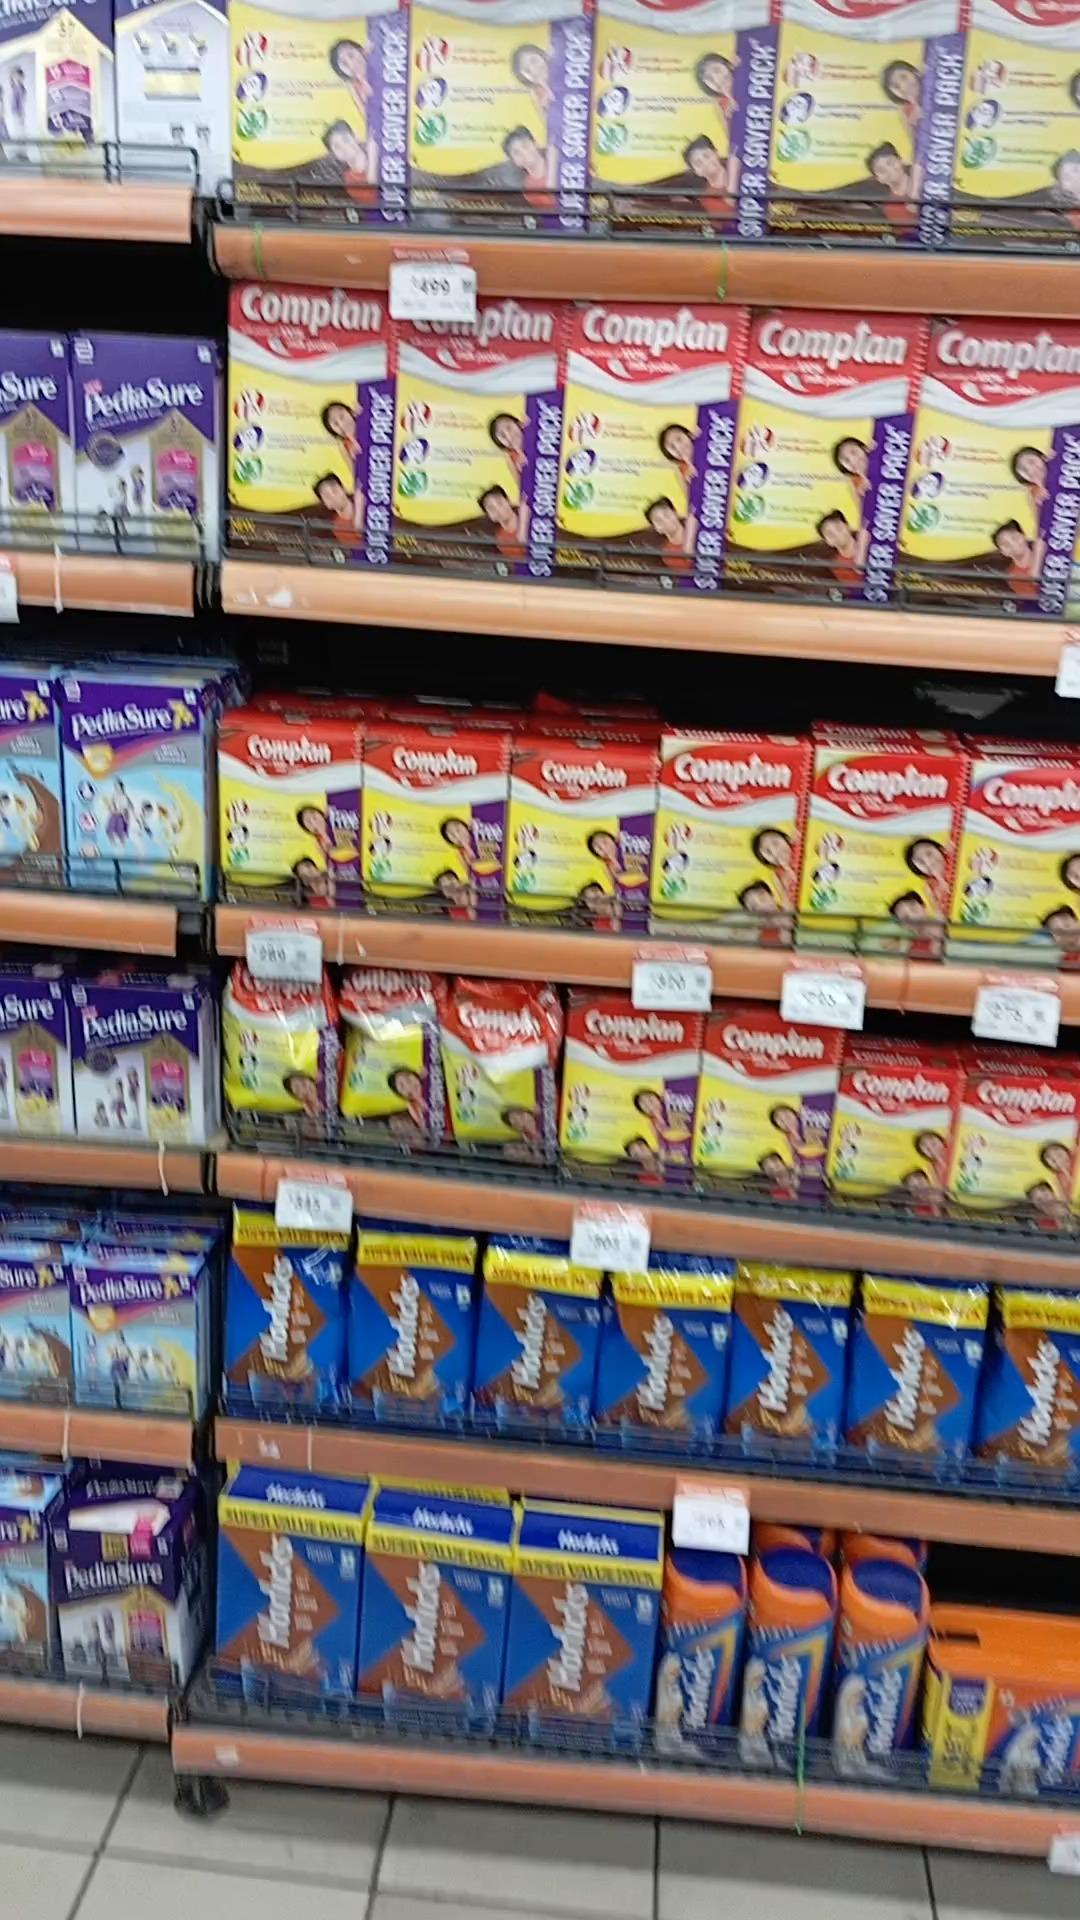COMPLAN_CHOCOLATE_1_KG_PACK: (742, 299, 909, 600), (920, 313, 1080, 616), (227, 280, 393, 568), (567, 302, 731, 592), (397, 299, 556, 578), (588, 0, 769, 244), (779, 0, 951, 251), (406, 1, 579, 228), (231, 0, 401, 224), (566, 994, 694, 1185), (708, 1010, 829, 1207)
COMPLAN_CHOCOLATE_500_GMS_PACK: (509, 745, 649, 931), (218, 725, 357, 911), (365, 741, 502, 923), (957, 1075, 1080, 1236), (839, 1068, 951, 1221)
COMPLAN_CREAMY_CLASSIC_500_G_PACK: (960, 765, 1080, 969)
COMPLAN_KESAR_BADAM_500_GMS_PACK: (658, 736, 794, 949)
COMPLAN_PISTA_BADAM_500_GMS_PACK: (806, 745, 947, 964)
COMPLAN_RC_POUCH_700_GMS_12: (443, 984, 551, 1166), (224, 972, 328, 1141), (347, 972, 438, 1156)
HORLICK_CHOCOLATE_1_KG_PACK: (215, 1501, 357, 1718), (364, 1532, 508, 1741), (513, 1553, 651, 1749)
HORLICK_CHOCOLATE_750_G_POUCH: (858, 1275, 981, 1484), (229, 1205, 348, 1419), (609, 1254, 729, 1457), (357, 1222, 471, 1435), (480, 1236, 595, 1437), (733, 1266, 845, 1466), (994, 1290, 1080, 1515)
HORLICK_MALT_1_KG_CONTAINER: (934, 1651, 1080, 1808)
PEDIASURE_CHOCOLATE_500_G_PACK: (51, 1526, 179, 1697)
PEDIASURE_VANILLA_500_G_PACK: (76, 336, 215, 559), (73, 988, 199, 1147)
